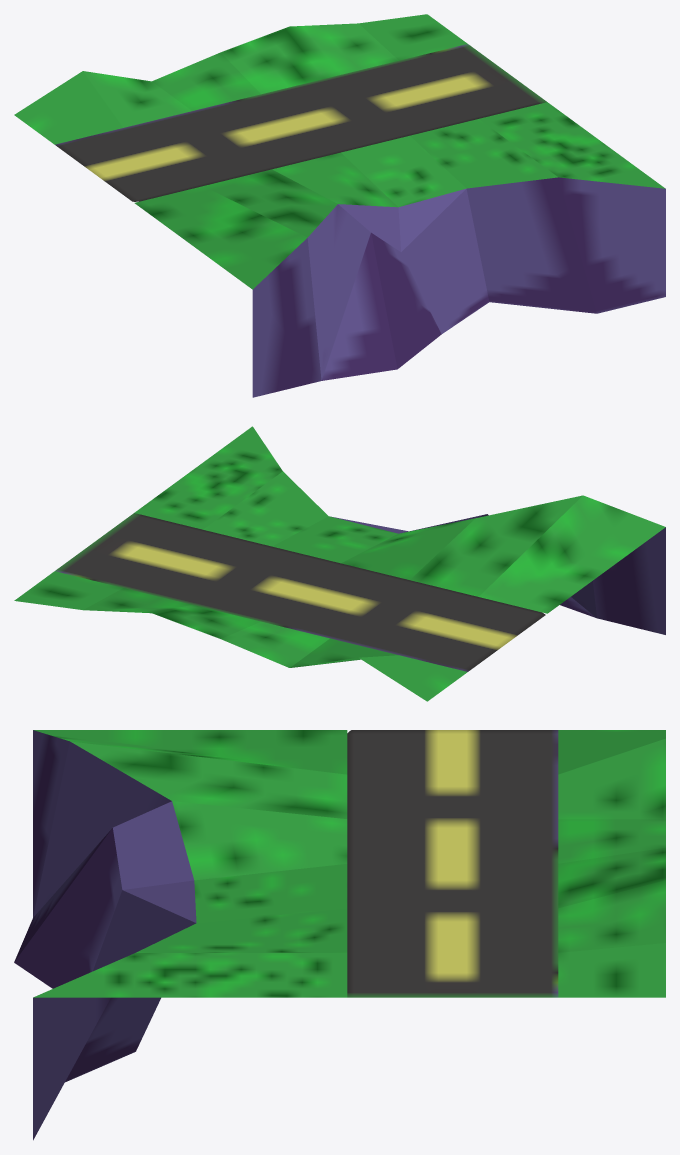
The model's file is Suelo2.fbx.
3 views of the same model, one above another, from view 1: azimuth 30°, elevation 25°; view 2: azimuth 150°, elevation 25°; view 3: azimuth 270°, elevation 25° (orthographic). The views are drawn at different scales.
Visible parts, largest first — view 1: Cube.005; view 2: Cube.005; view 3: Cube.005.
Boxes of the visible parts, left/top/right/bottom form: Cube.005: left=14, top=14, right=665, bottom=397; Cube.005: left=14, top=426, right=665, bottom=701; Cube.005: left=14, top=730, right=665, bottom=1140.
Size of the model in its own units: 8000 by 8240 by 2504.
1 material, 1 textured.
